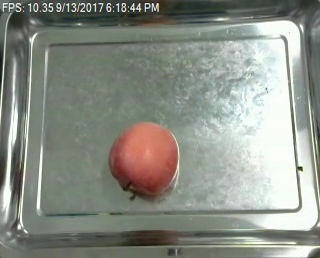Apple: (105, 120, 182, 198)
